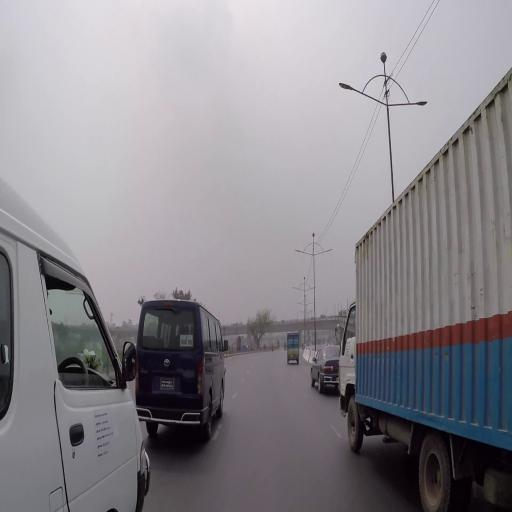car: (311, 342, 341, 396)
pickup: (288, 332, 301, 366)
truck: (338, 58, 512, 506)
van: (1, 193, 146, 512), (136, 294, 230, 443)
